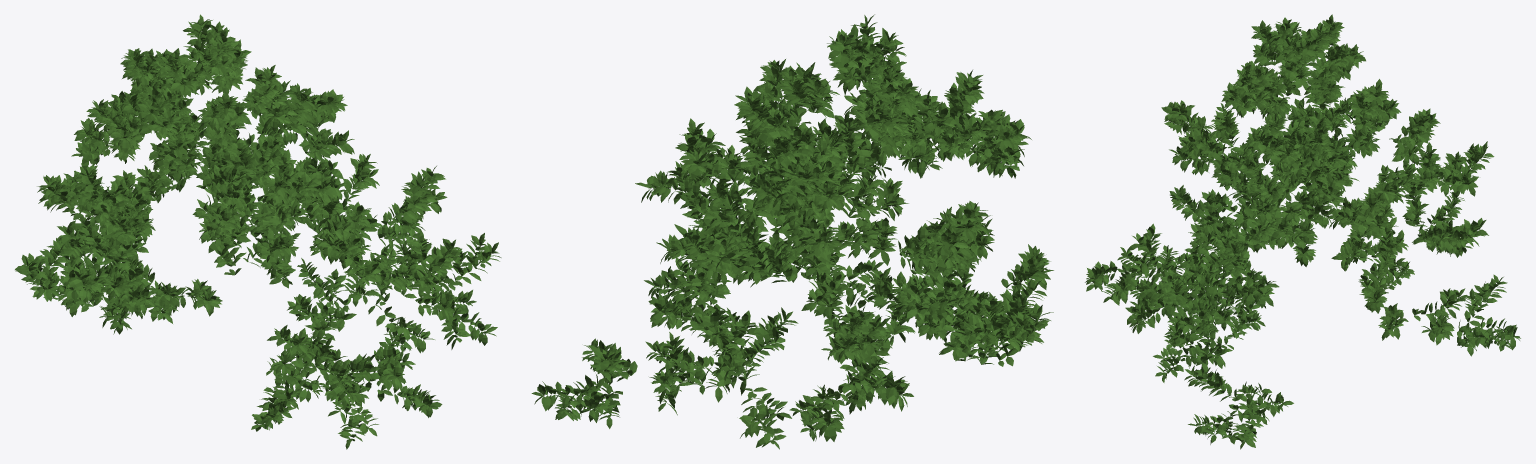
The model's file is leaves_2.glb.
3 renders of one model, left to right at view 1: azimuth 30°, elevation 25°; view 2: azimuth 150°, elevation 25°; view 3: azimuth 270°, elevation 25°, orthographic. The views are drawn at different scales.
Size of the model in its own units: 10.36 by 10.29 by 10.83.
